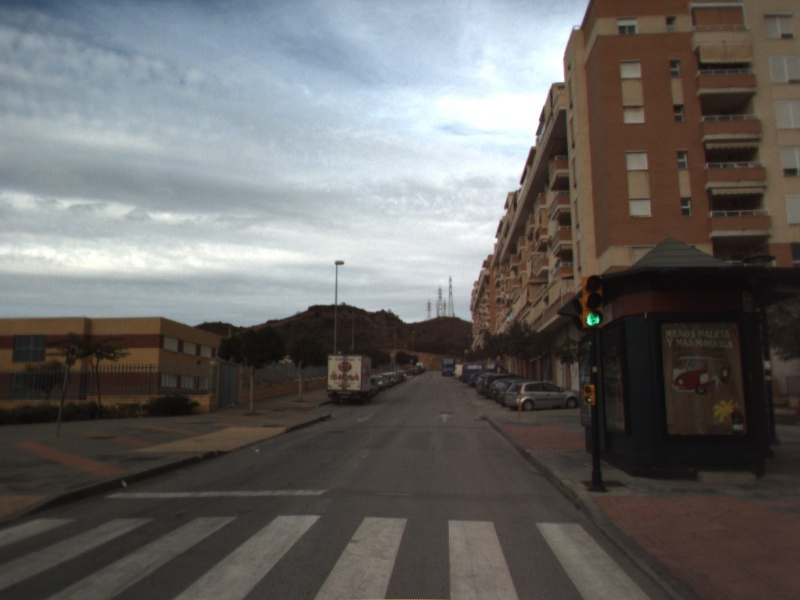STRAIGHT: (435, 411, 455, 424)
